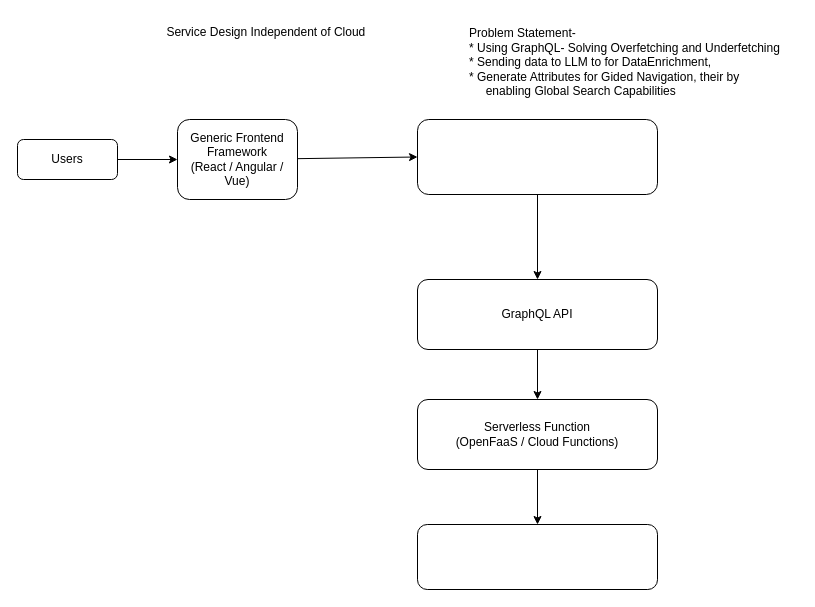
The diagram is 815 pixels wide and 607 high, and some of its shapes have lost their labels. Each missing label, with the box of its shape:
Generic GraphQL Server (Apollo / Hasura): (416, 118, 658, 194)
LLM Access (OpenAI / HuggingFace / Ollama): (416, 524, 658, 590)
